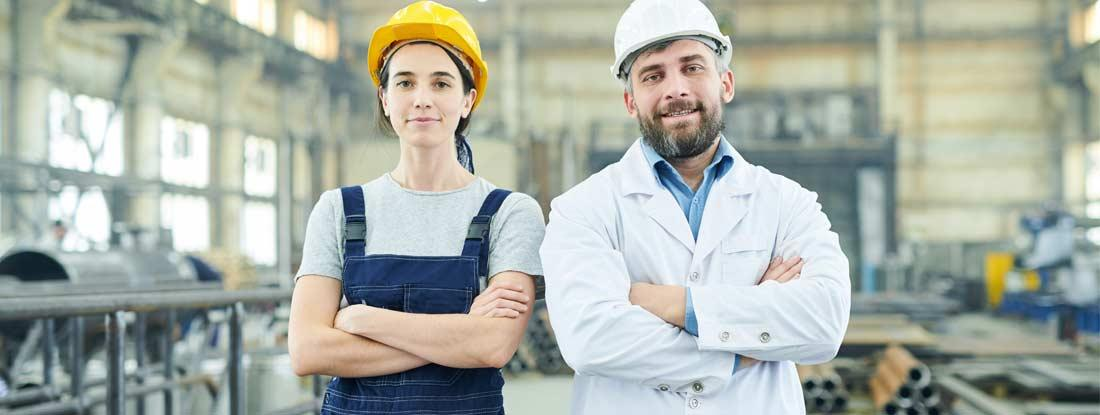helmet: (366, 1, 487, 108), (609, 1, 736, 80)
